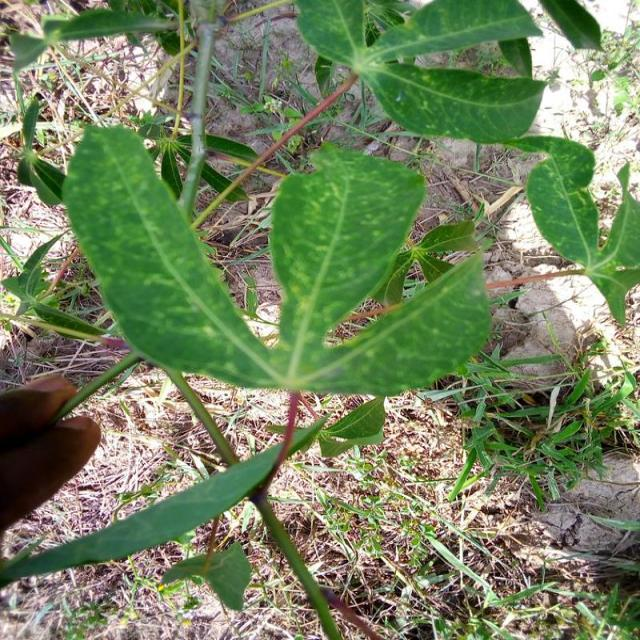cassava leaf: (60, 122, 492, 396), (268, 139, 426, 373), (294, 0, 549, 144), (524, 138, 638, 328)
